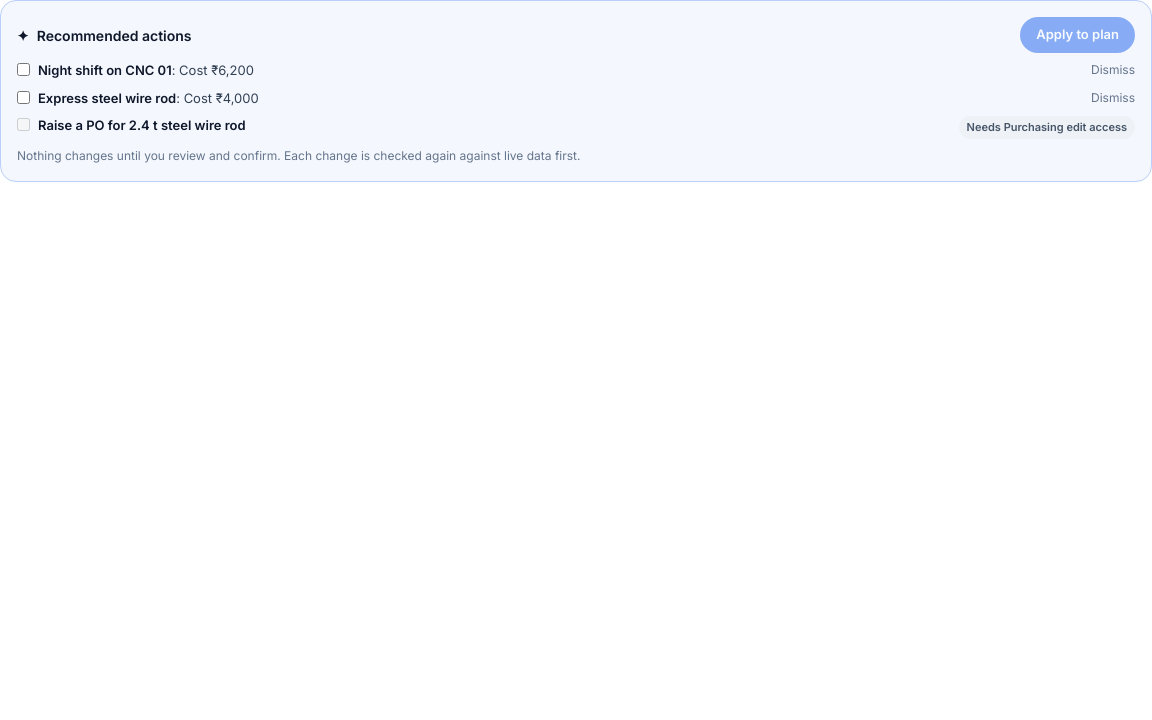
it: a suggestion that no longer applies can't be confirmed
The image size is (1152, 720).
Click the checkbox labelled "Express steel wire rod: Cost ₹4,000": (24, 97) [17,90,30,104]
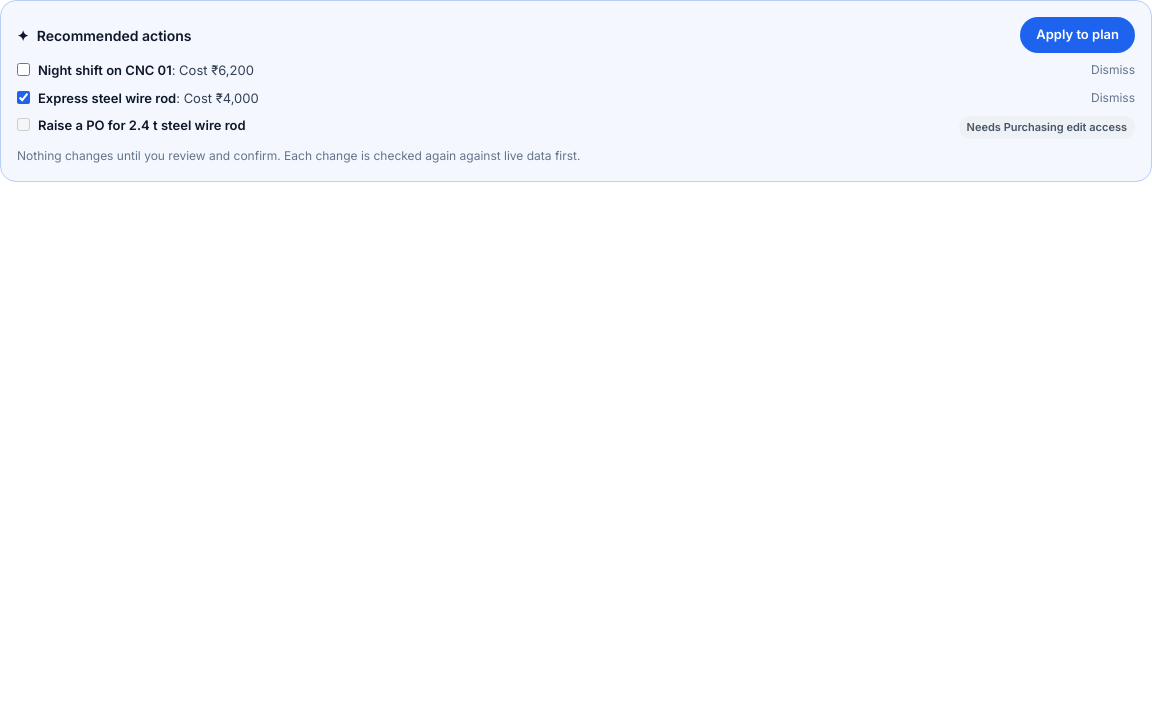
Click the button "Apply to plan": (1078, 35) [1020,17,1135,53]
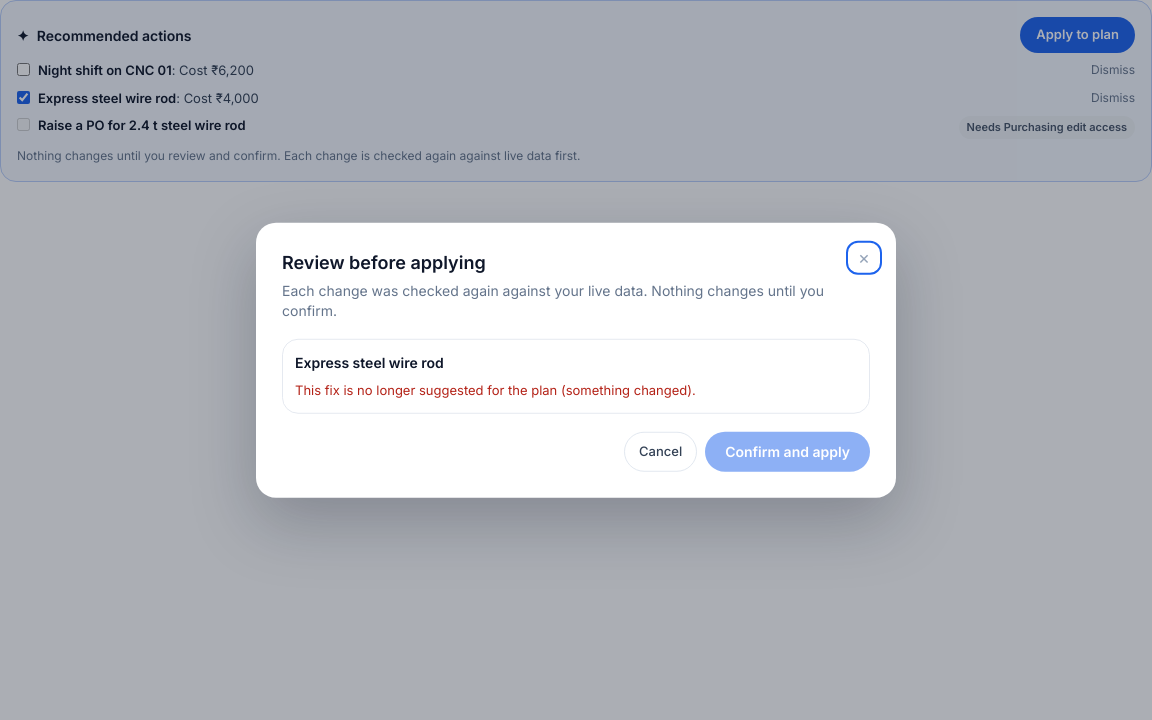
Check: the message shows "no longer suggested", box [295,382,696,398]
Check: the button "Confirm and apply" is disabled, box [705,431,870,471]
